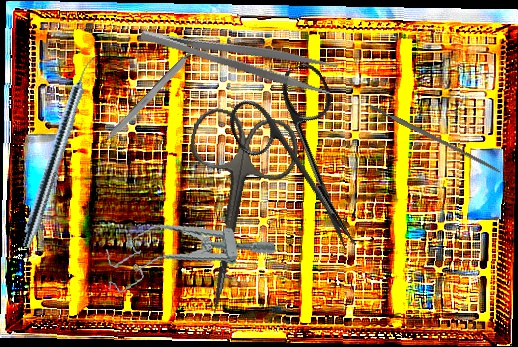Dressing Forceps: (138, 9, 339, 98)
Handpiece: (18, 52, 100, 251)
Iris Scissors: (219, 58, 400, 272), (159, 104, 304, 323)
Scalpel Handle: (366, 101, 503, 175), (103, 44, 201, 145)
Speculum: (99, 205, 278, 296)
